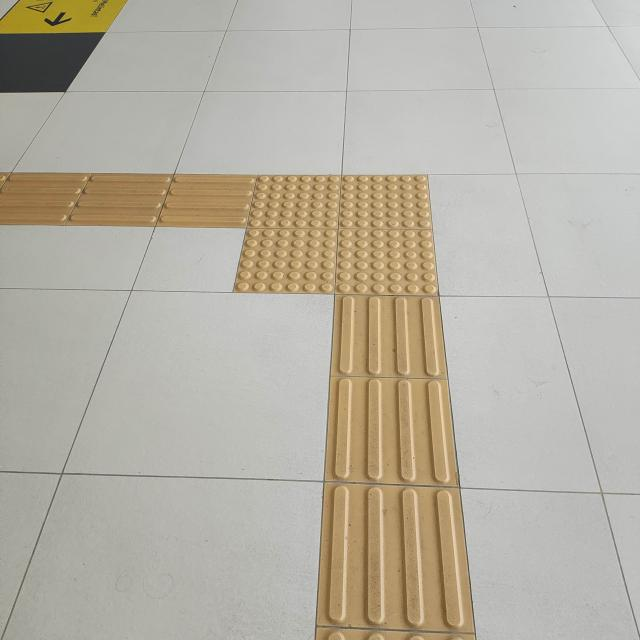kiri: (135, 139, 487, 332)
